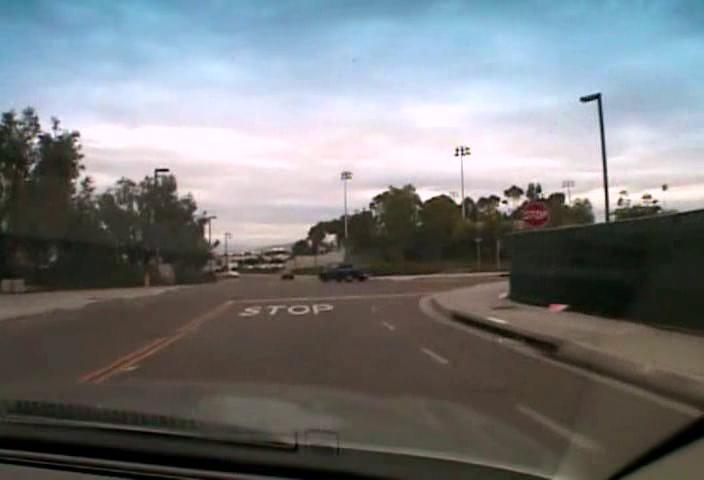stop: (519, 200, 549, 228)
